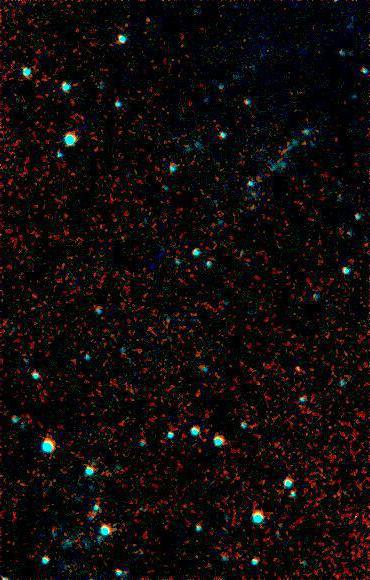star: (133, 5, 163, 35)
